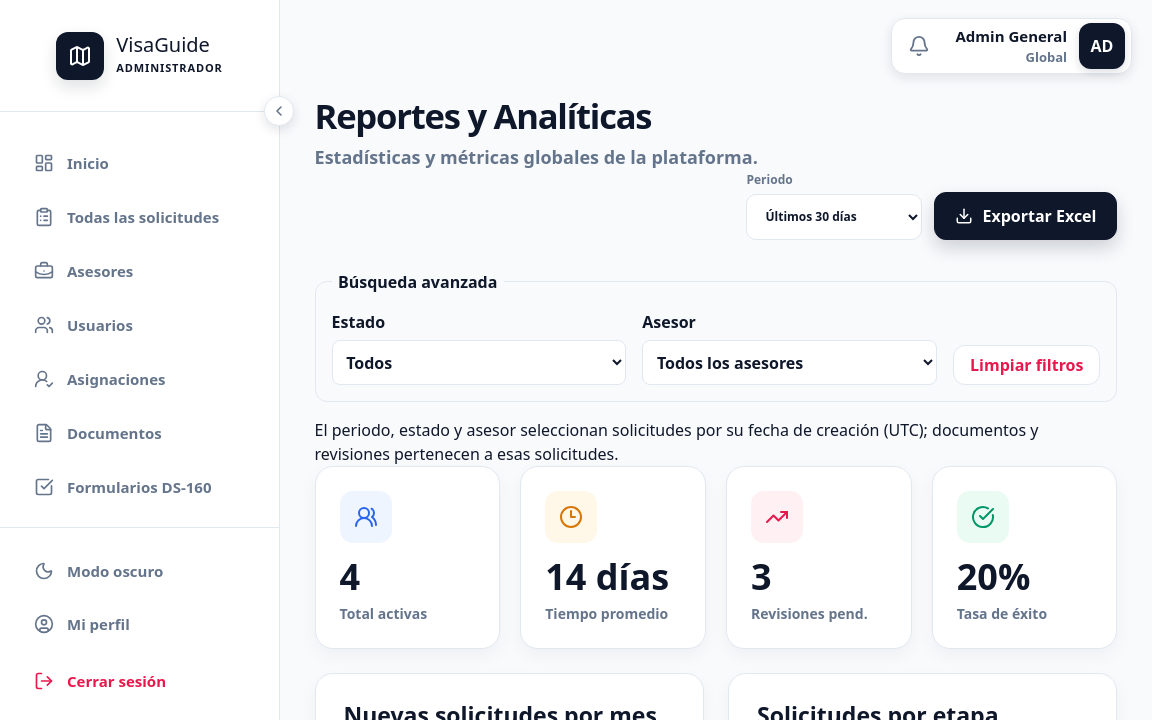
Test case: panel de administracion › filtra reportes por fechas personalizadas y exporta el mismo rango en Excel
Check: the text "Total activas" is shown, box left=340, top=603, right=427, bottom=624
Select "Rango personalizado" in the dropdown labelled "Periodo" at (834, 217), box left=746, top=194, right=922, bottom=240
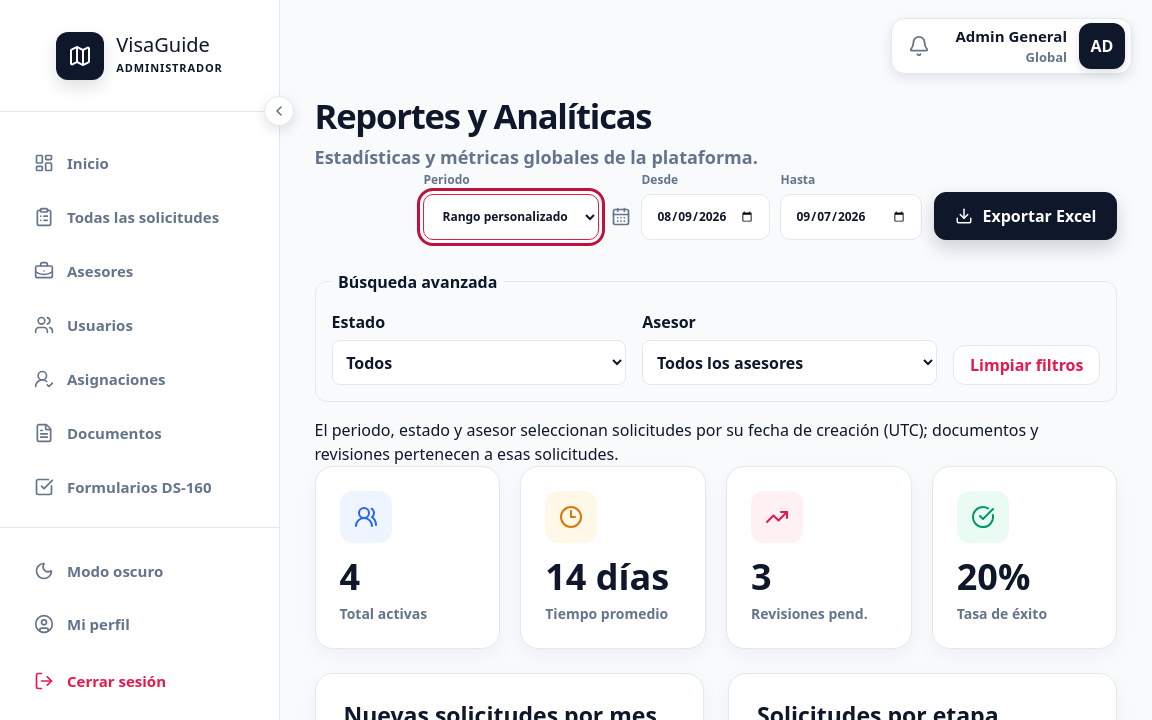
Type "2026-07-01" into the date field labelled "Desde" at (706, 217), box left=642, top=194, right=770, bottom=240
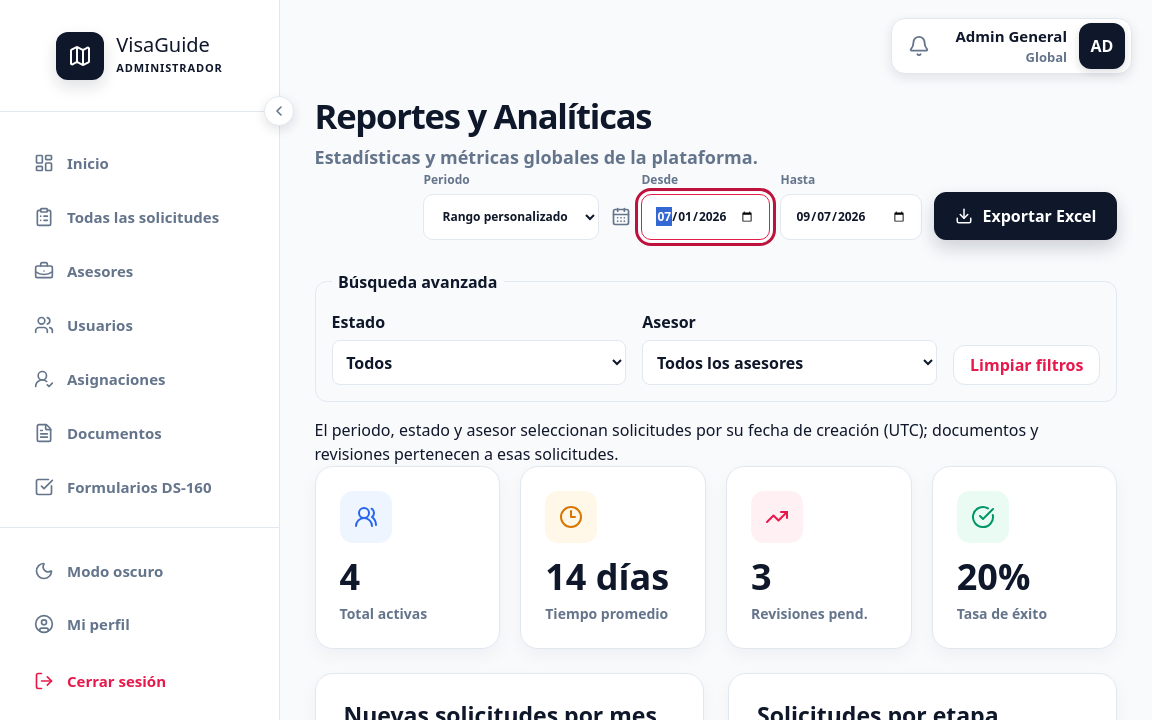
Type "2026-07-31" into the date field labelled "Hasta" at (852, 217), box left=780, top=194, right=922, bottom=240
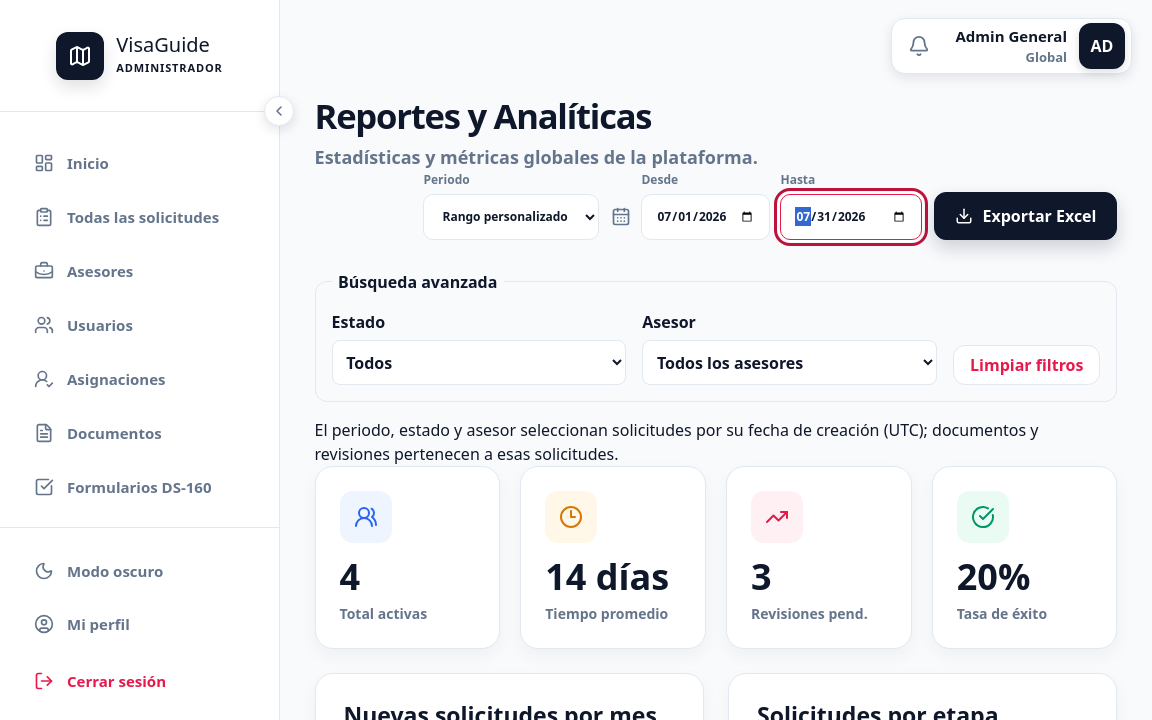
Click the button "Exportar Excel" at (1026, 216), box left=934, top=192, right=1118, bottom=240
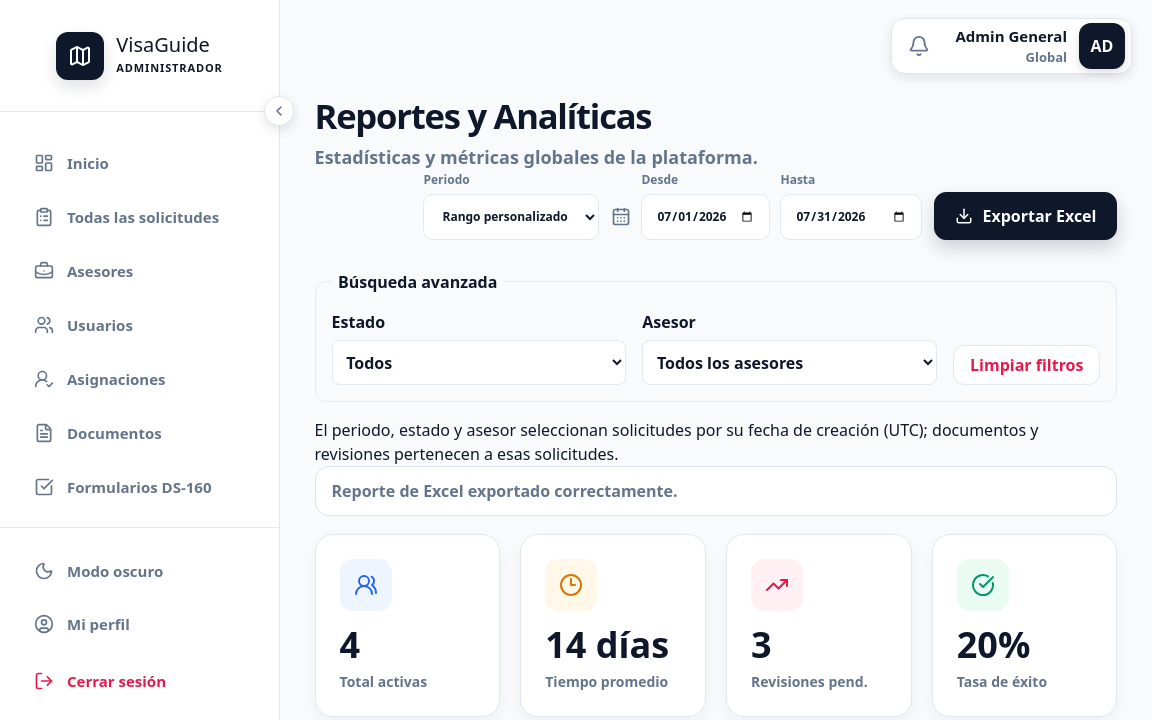
Check: the text "Reporte de Excel exportado correctamente." is shown, box left=314, top=466, right=1117, bottom=516
